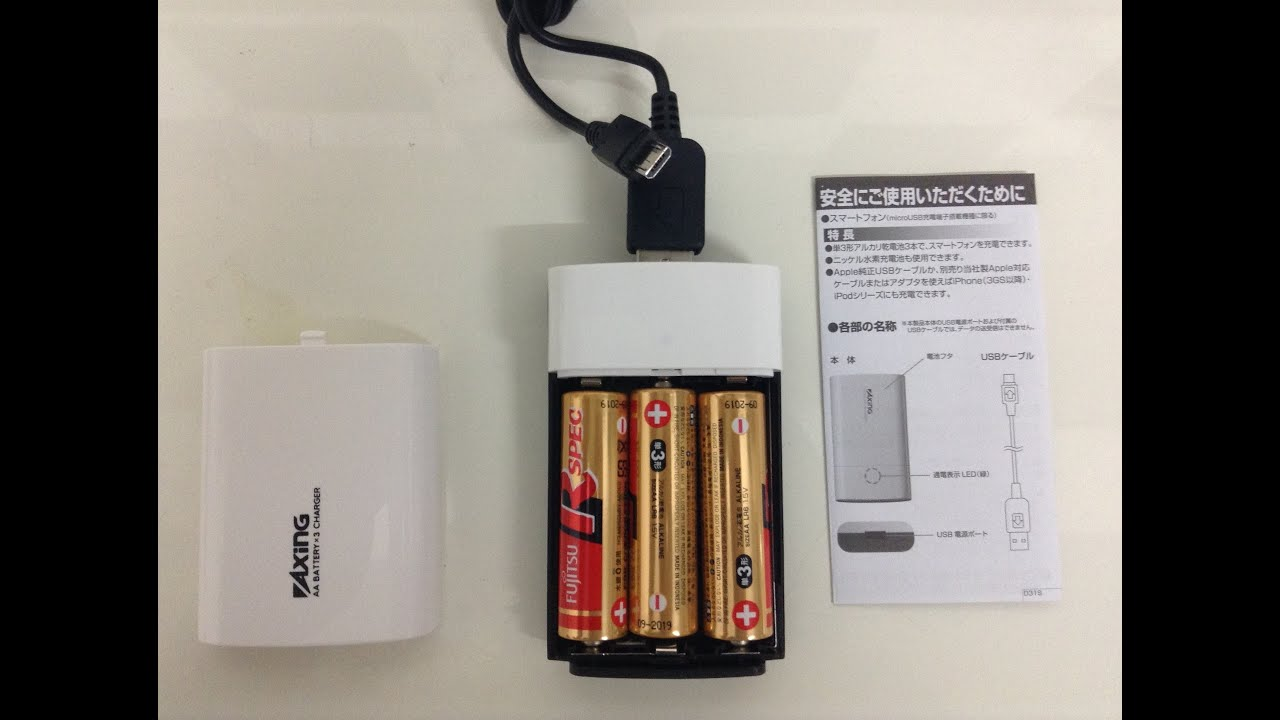Battery: (698, 387, 778, 652), (551, 383, 629, 650), (627, 382, 700, 641)
